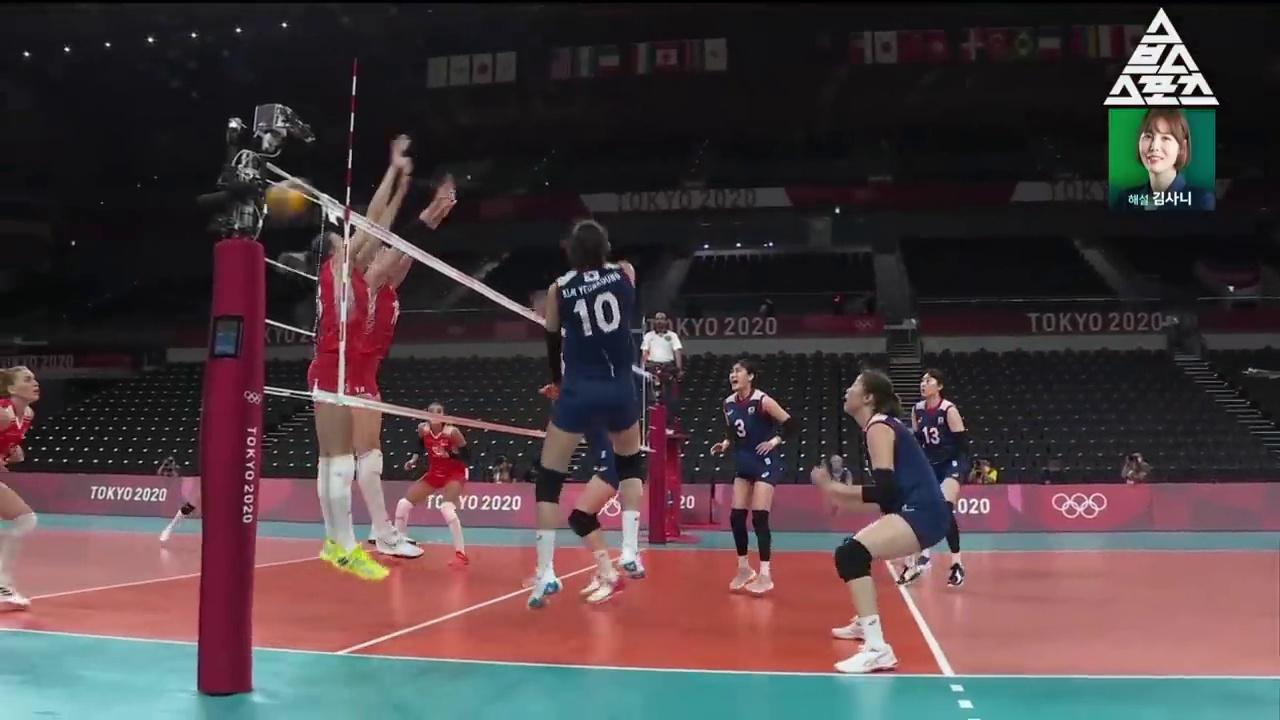ball: (264, 183, 312, 216)
player: (284, 135, 412, 583), (529, 221, 645, 611), (812, 369, 951, 673), (353, 176, 457, 558), (540, 349, 627, 602), (711, 360, 794, 595), (896, 370, 964, 585), (397, 405, 469, 568), (0, 368, 39, 612)
referee: (640, 312, 682, 435)
